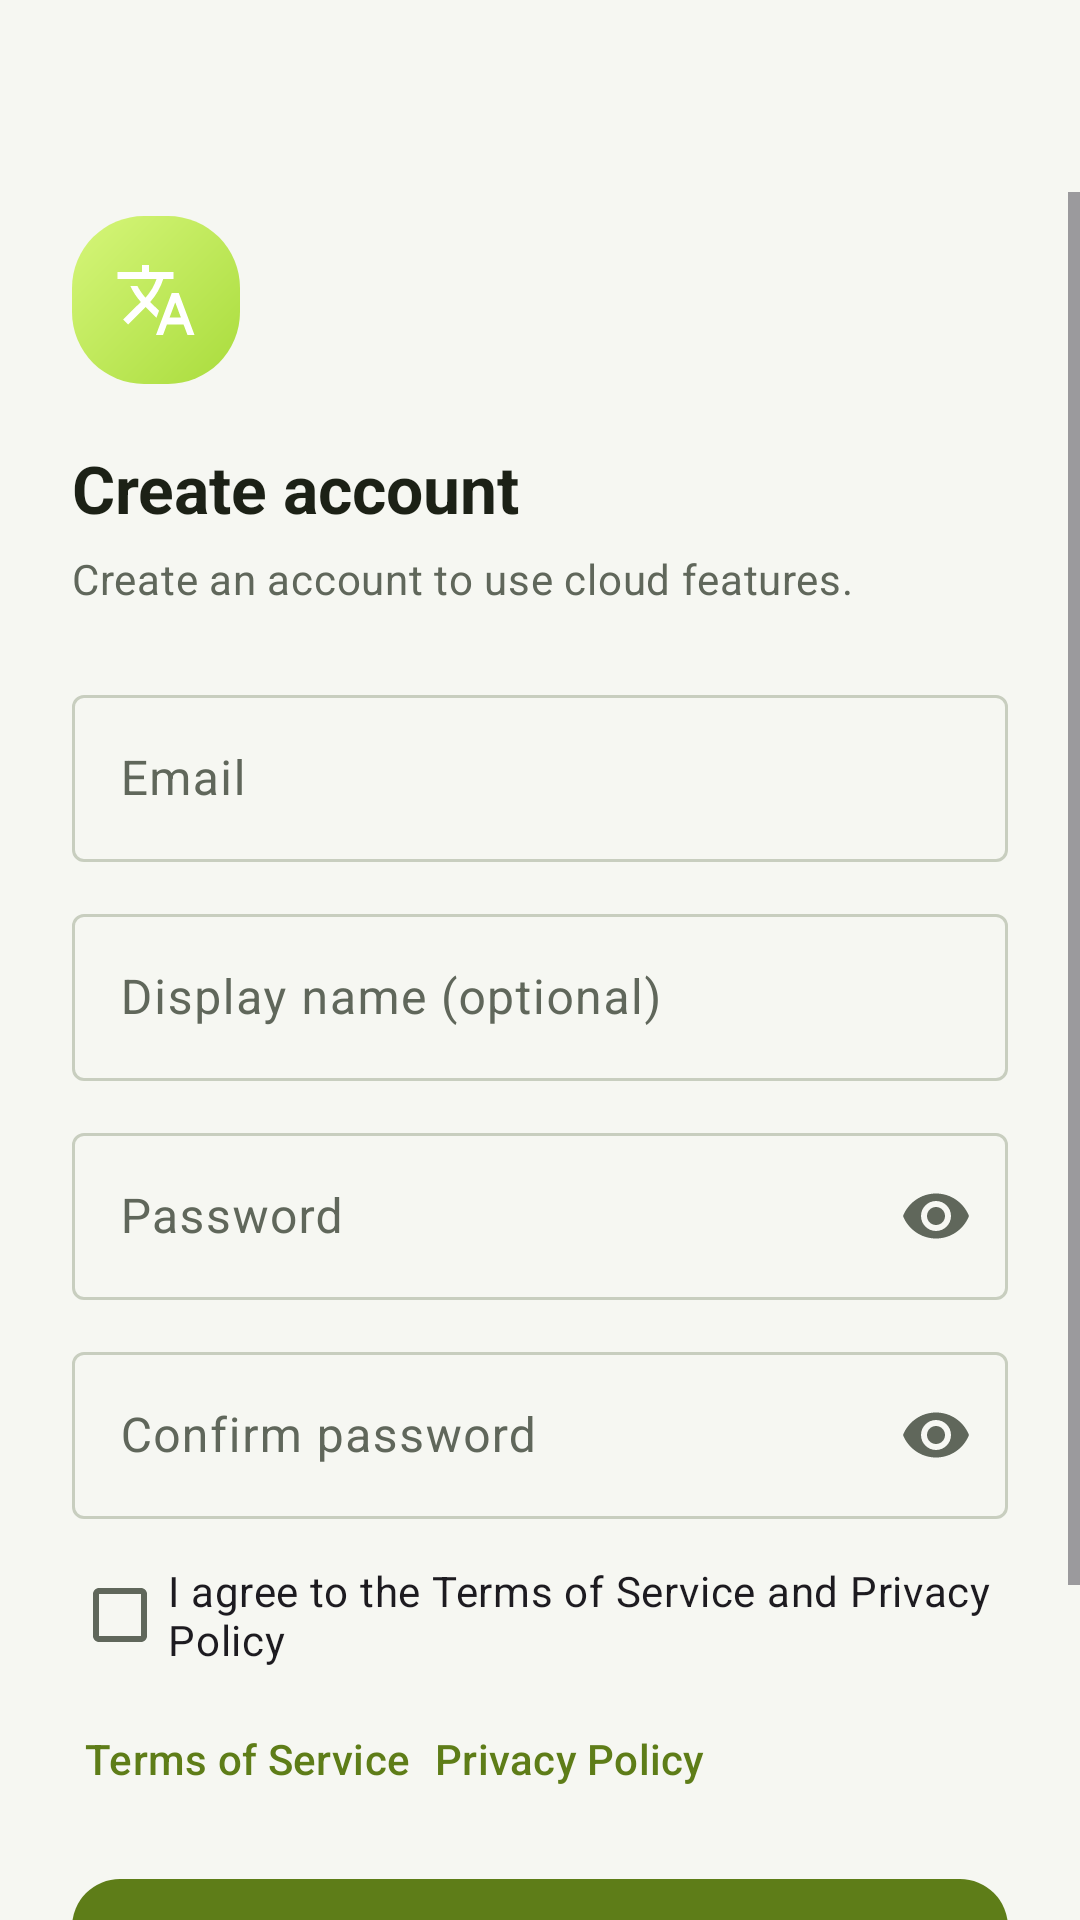

Named icons in this screenshot (1080*1920) and their centers, [x,y]:
translate: [156,300]
